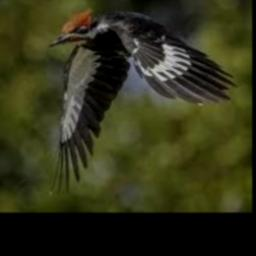Woodpecker: (49, 7, 238, 196)
